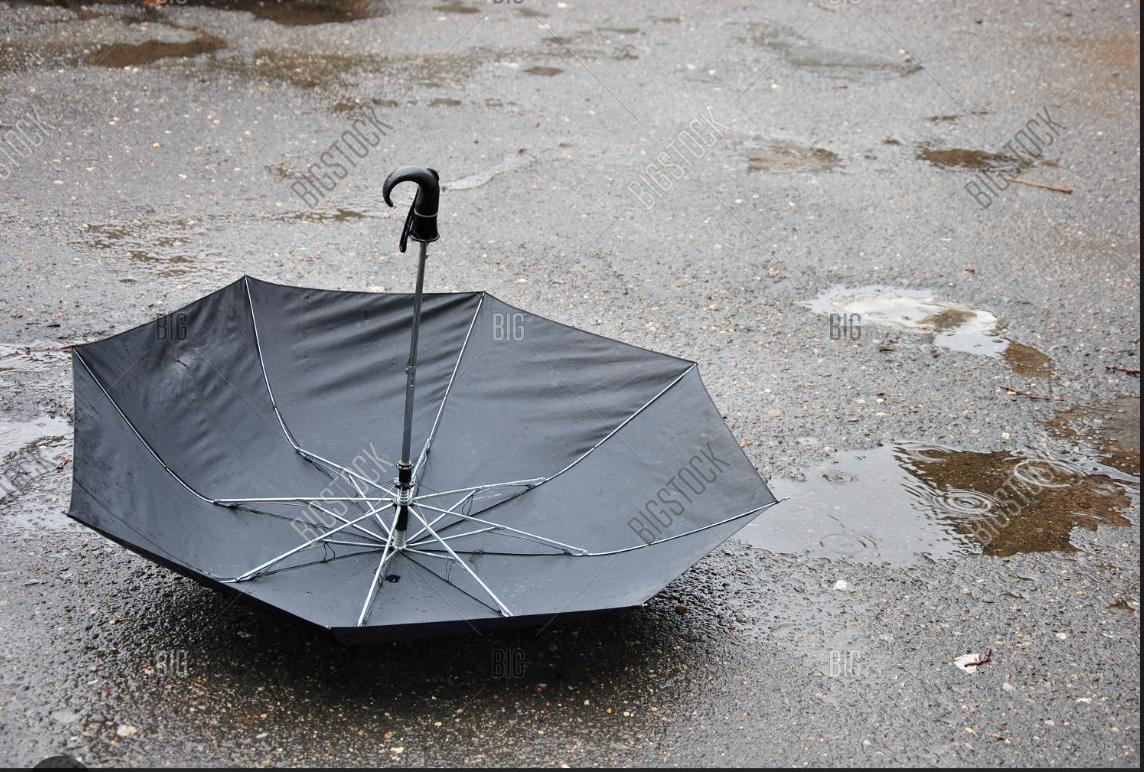Umbrella: (65, 274, 779, 642)
